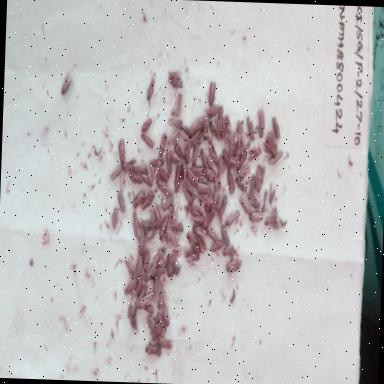pbw: (54, 69, 72, 99), (125, 302, 140, 336), (168, 64, 186, 92), (128, 209, 144, 240), (194, 226, 210, 256), (138, 188, 154, 216), (203, 219, 222, 242), (255, 105, 267, 141), (164, 228, 182, 252), (244, 188, 262, 212), (138, 246, 152, 276), (204, 152, 220, 178), (236, 192, 253, 216), (145, 77, 159, 106), (218, 221, 231, 252), (120, 157, 138, 179), (158, 301, 172, 329), (203, 79, 217, 107), (243, 114, 258, 140), (268, 146, 284, 170), (270, 210, 286, 234), (262, 206, 278, 230), (224, 204, 240, 228), (119, 257, 136, 279), (111, 190, 128, 212), (131, 250, 144, 278), (120, 273, 134, 299), (182, 228, 200, 248), (185, 166, 200, 190), (167, 126, 182, 150), (172, 164, 184, 194), (135, 291, 152, 312), (254, 164, 265, 196), (157, 129, 169, 158), (224, 256, 242, 275), (207, 240, 226, 258), (202, 168, 219, 188), (148, 318, 162, 342), (130, 186, 144, 210), (144, 222, 158, 246), (265, 134, 279, 158), (152, 243, 164, 271), (140, 130, 154, 154), (216, 194, 228, 222), (138, 109, 152, 133), (144, 164, 156, 192), (158, 215, 170, 242), (170, 139, 184, 162), (150, 157, 164, 180), (234, 116, 244, 148), (178, 120, 194, 140), (110, 202, 121, 231), (185, 179, 200, 200), (190, 142, 202, 168), (234, 176, 248, 198), (235, 149, 249, 171), (215, 152, 226, 180), (127, 170, 146, 186), (224, 138, 240, 157), (166, 258, 178, 282), (198, 148, 210, 172), (271, 115, 282, 141), (155, 286, 166, 312), (171, 214, 185, 234), (190, 115, 204, 135), (250, 206, 264, 226), (148, 202, 159, 227), (144, 263, 157, 284), (167, 111, 183, 128), (144, 342, 160, 359), (225, 154, 242, 170), (188, 202, 205, 218), (136, 230, 146, 257), (109, 167, 124, 185), (156, 178, 171, 196), (173, 92, 184, 116), (162, 192, 174, 214), (152, 276, 161, 305), (249, 142, 262, 162), (224, 168, 234, 194), (201, 192, 214, 212), (156, 310, 166, 336), (225, 122, 238, 142), (148, 266, 164, 282), (186, 248, 200, 266), (130, 164, 148, 178), (267, 181, 277, 206), (118, 136, 126, 167), (146, 313, 159, 332), (220, 247, 240, 259), (210, 123, 222, 143), (152, 204, 162, 228), (260, 190, 270, 214), (196, 182, 210, 199), (237, 163, 250, 181), (208, 143, 220, 162), (139, 301, 154, 316), (188, 134, 202, 150), (158, 336, 172, 352), (191, 224, 207, 238), (182, 140, 190, 168), (204, 104, 218, 120), (234, 140, 244, 162), (175, 160, 185, 182), (135, 285, 147, 303), (249, 172, 257, 199), (157, 168, 170, 184), (190, 213, 206, 226), (190, 164, 206, 177), (191, 243, 207, 256), (204, 122, 213, 145), (224, 109, 232, 134), (212, 182, 222, 202), (219, 117, 227, 141), (216, 104, 224, 128), (134, 274, 142, 298), (182, 190, 194, 206), (137, 218, 151, 231), (164, 156, 174, 174)
